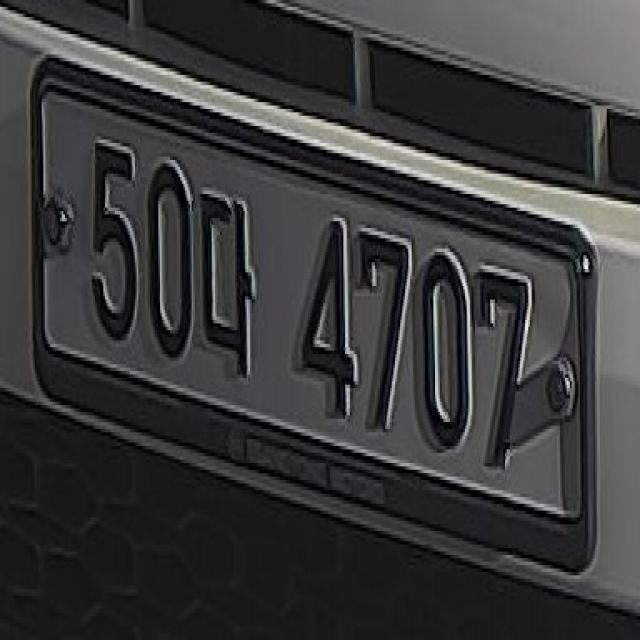0: (418, 245, 474, 464), (145, 154, 193, 373)
4: (296, 212, 355, 436)
5: (81, 133, 138, 354)
7: (477, 260, 533, 485), (358, 225, 410, 434)
da: (199, 178, 260, 388)
license_plate: (30, 50, 605, 594)
